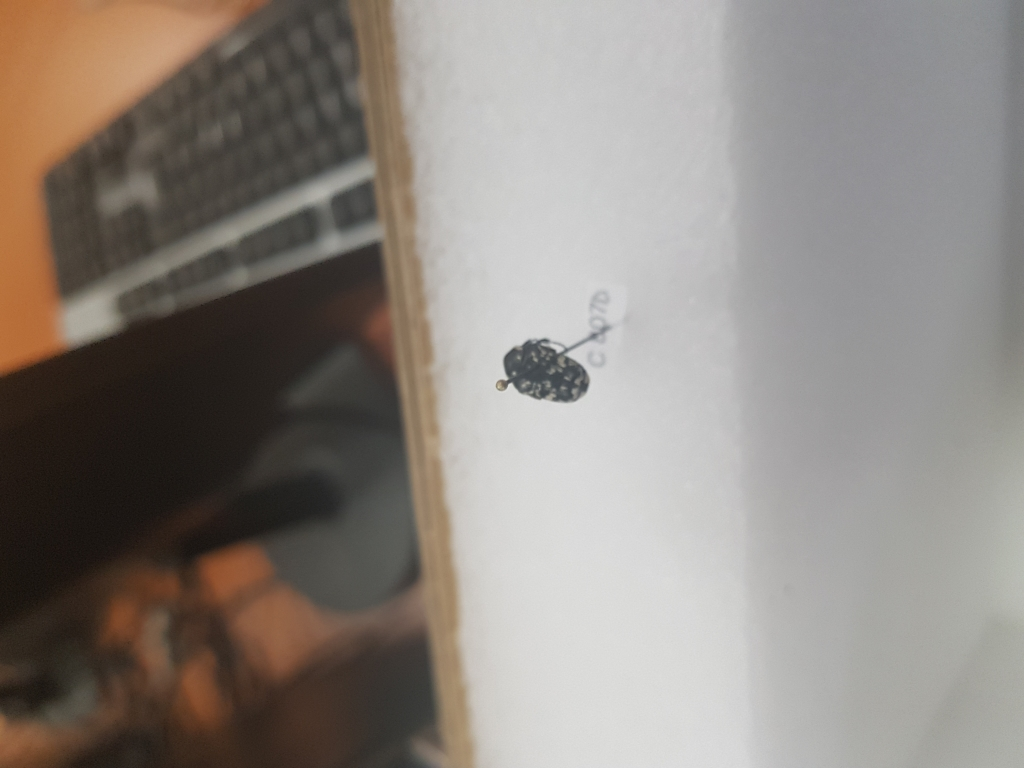Oxythyrea_albopicta: (499, 332, 598, 415)
